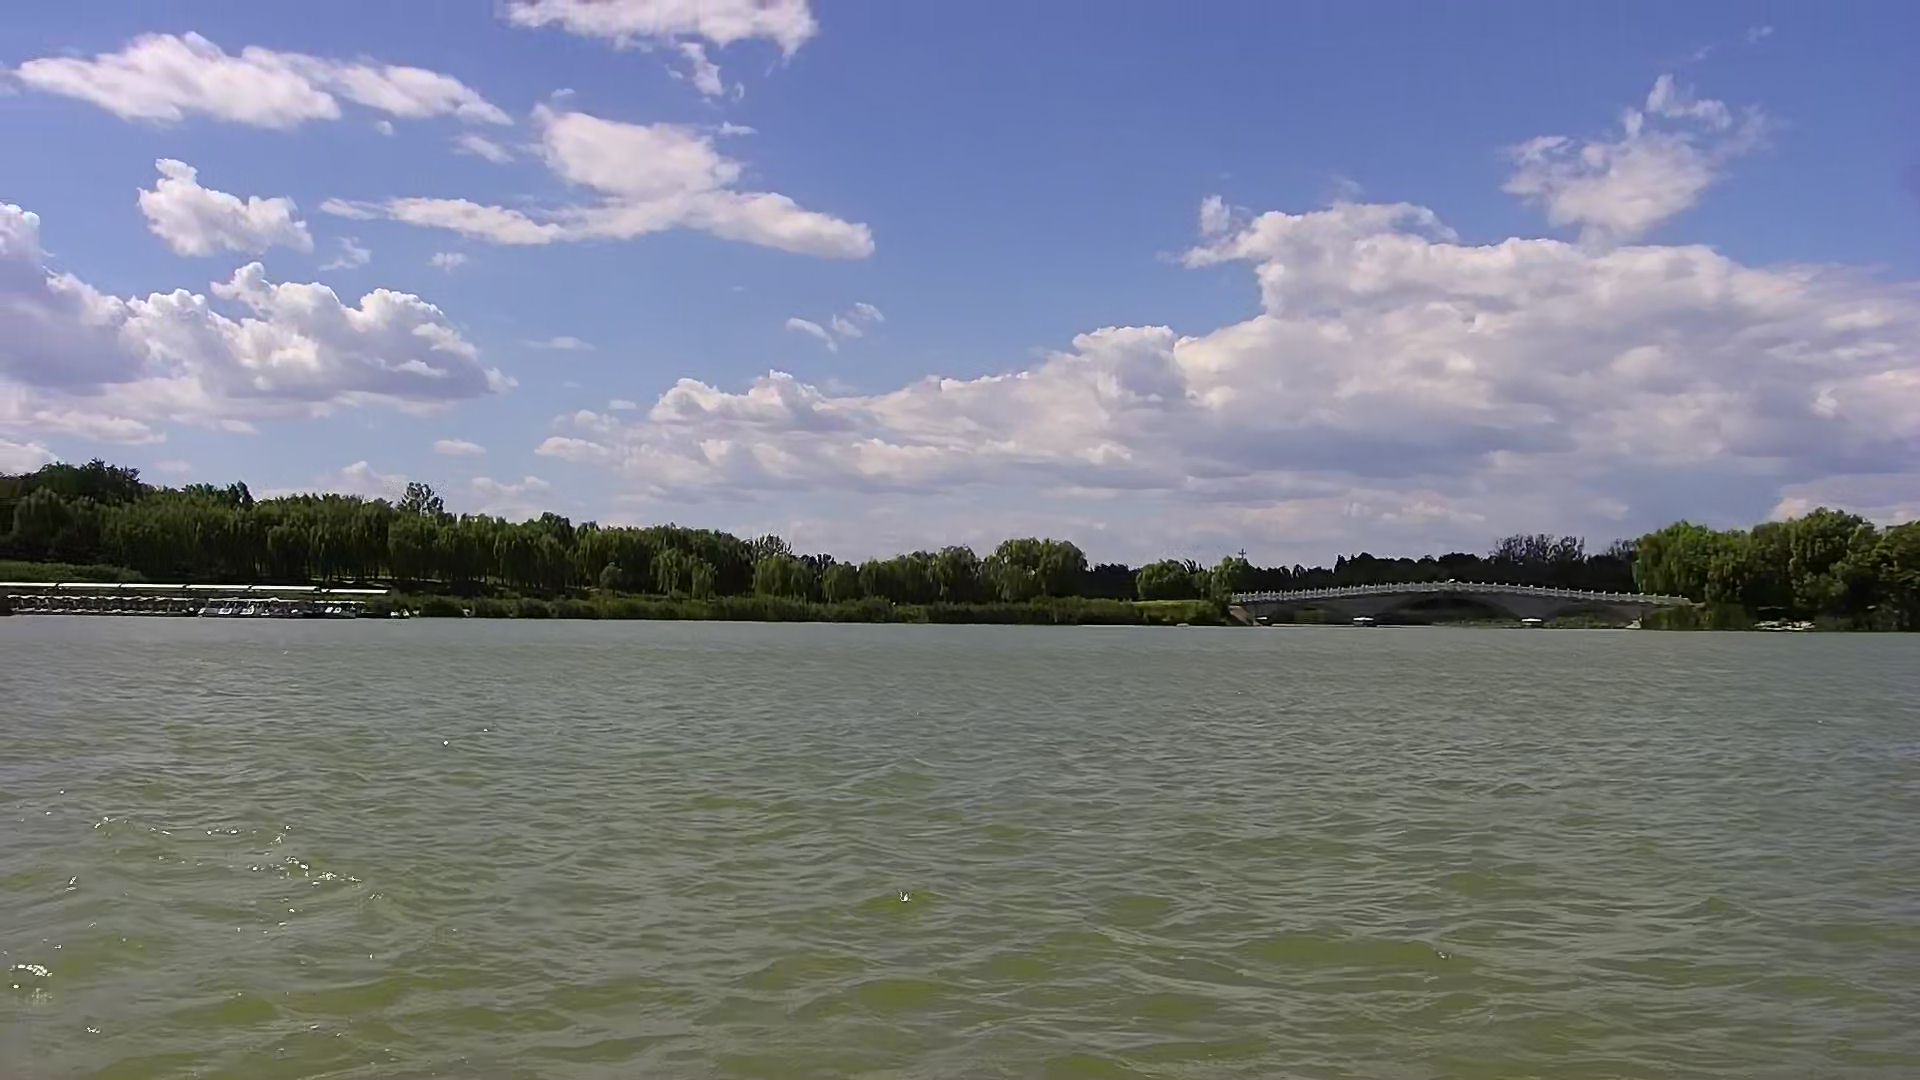bridge: (1228, 578, 1695, 636)
harbor: (1, 579, 382, 625)
